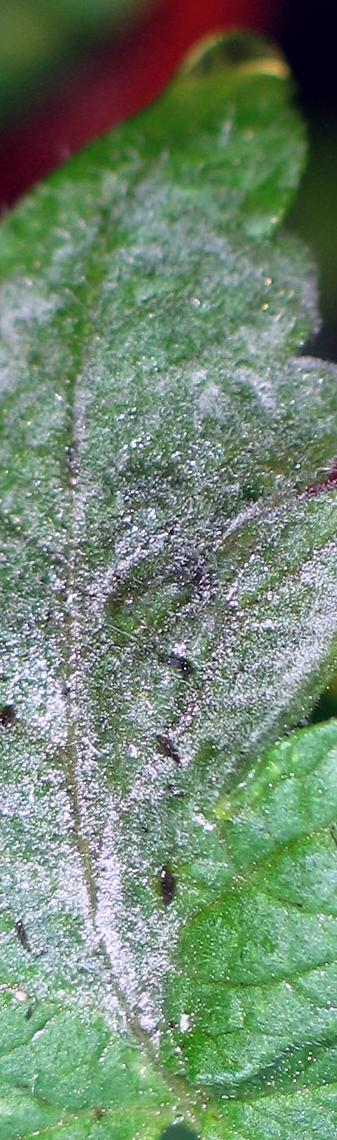Tomato leaf late blight: (0, 15, 337, 1140)
